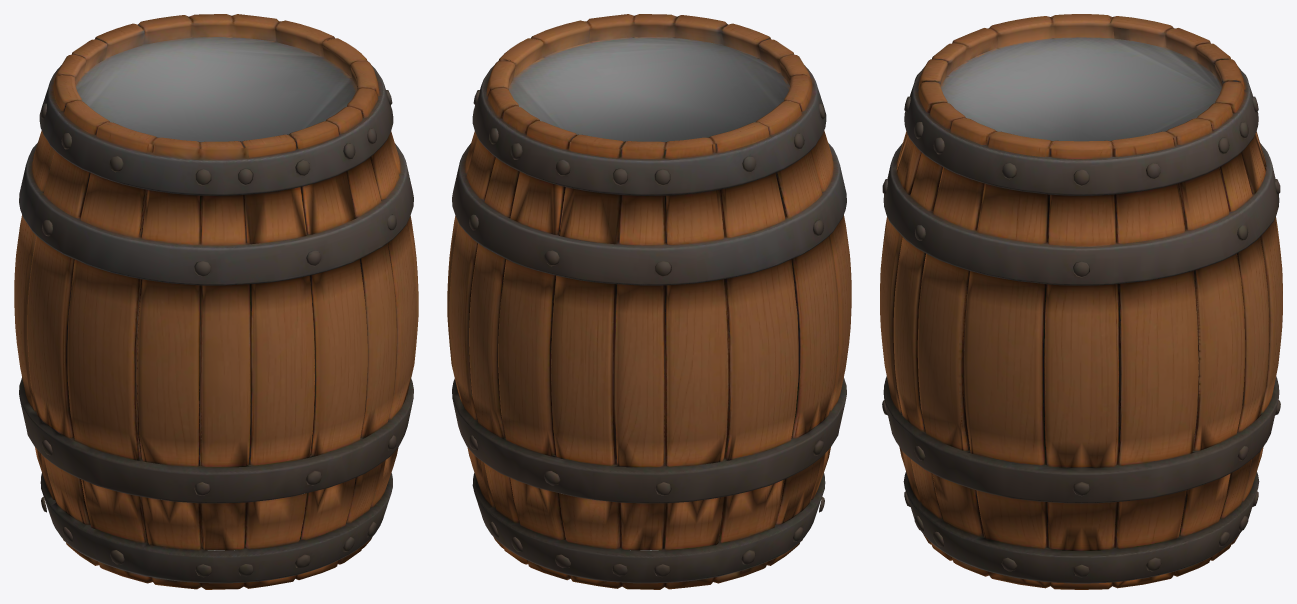
Rendered from Outdoor__a_wooden_barrel_f9278da9_v3.cluster.glb.
3 renders of one model, left to right at view 1: azimuth 30°, elevation 25°; view 2: azimuth 150°, elevation 25°; view 3: azimuth 270°, elevation 25°, orthographic.
Parts seen in each view (by area): view 1: material; view 2: material; view 3: material.
Part boxes in pixels (<box>): material: <box>14,14,418,589</box>; material: <box>447,14,851,589</box>; material: <box>880,14,1282,589</box>.
Bounding box in the file's own units: 1.57 × 1.9 × 1.56.
Materials: 1 (1 with a texture image).
